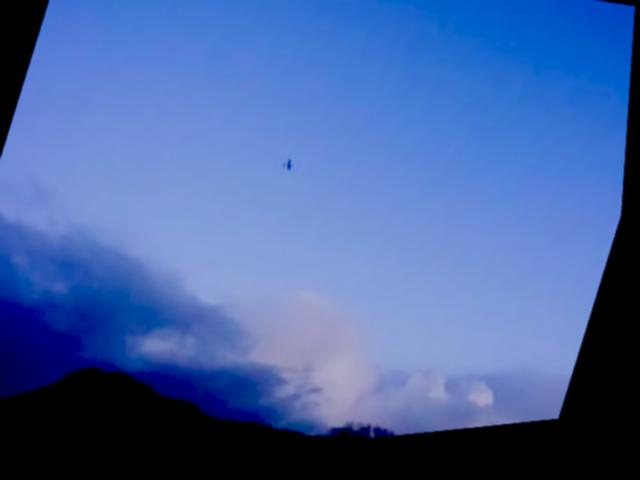uav: (280, 160, 299, 180)
